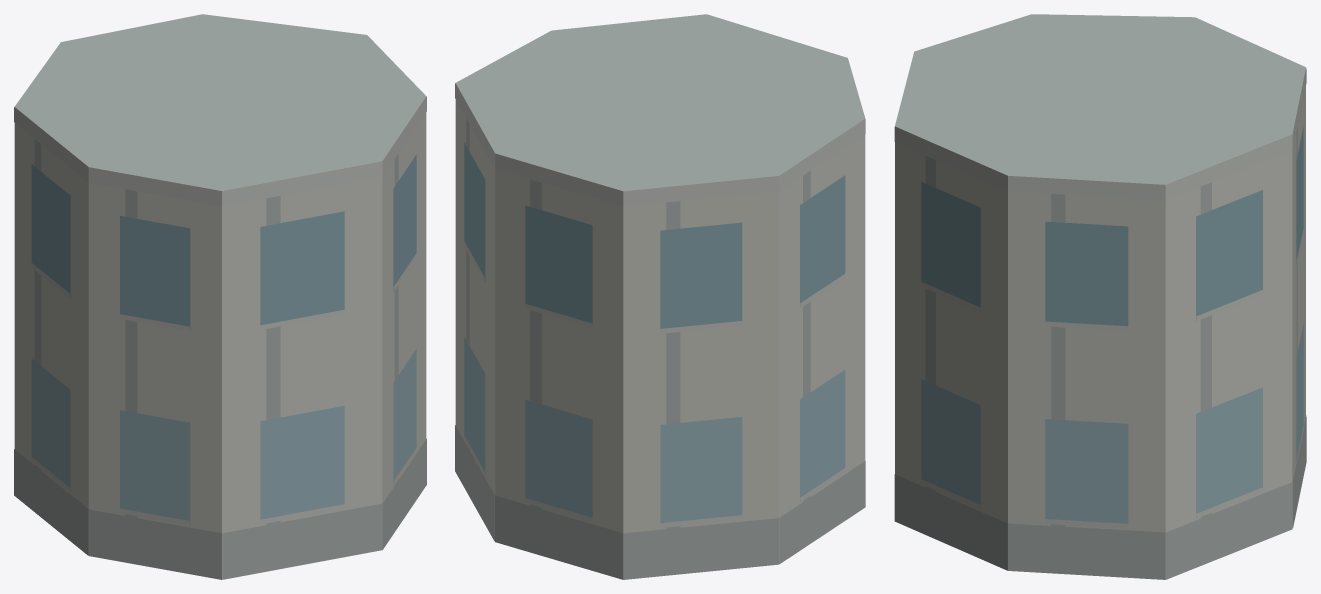
File: survey-upis-32586579.glb
The picture shows the model from 3 angles, left to right: view 1: azimuth 30°, elevation 25°; view 2: azimuth 150°, elevation 25°; view 3: azimuth 270°, elevation 25°; orthographic projection.
Visible parts, largest first — view 1: survey-upis-32586579.tmp; view 2: survey-upis-32586579.tmp; view 3: survey-upis-32586579.tmp.
Part boxes in pixels (bbox=[...]): survey-upis-32586579.tmp: bbox=[14, 14, 426, 579]; survey-upis-32586579.tmp: bbox=[455, 14, 865, 579]; survey-upis-32586579.tmp: bbox=[894, 14, 1306, 579].
Size of the model in its own units: 5.67 by 6.1 by 5.77.
